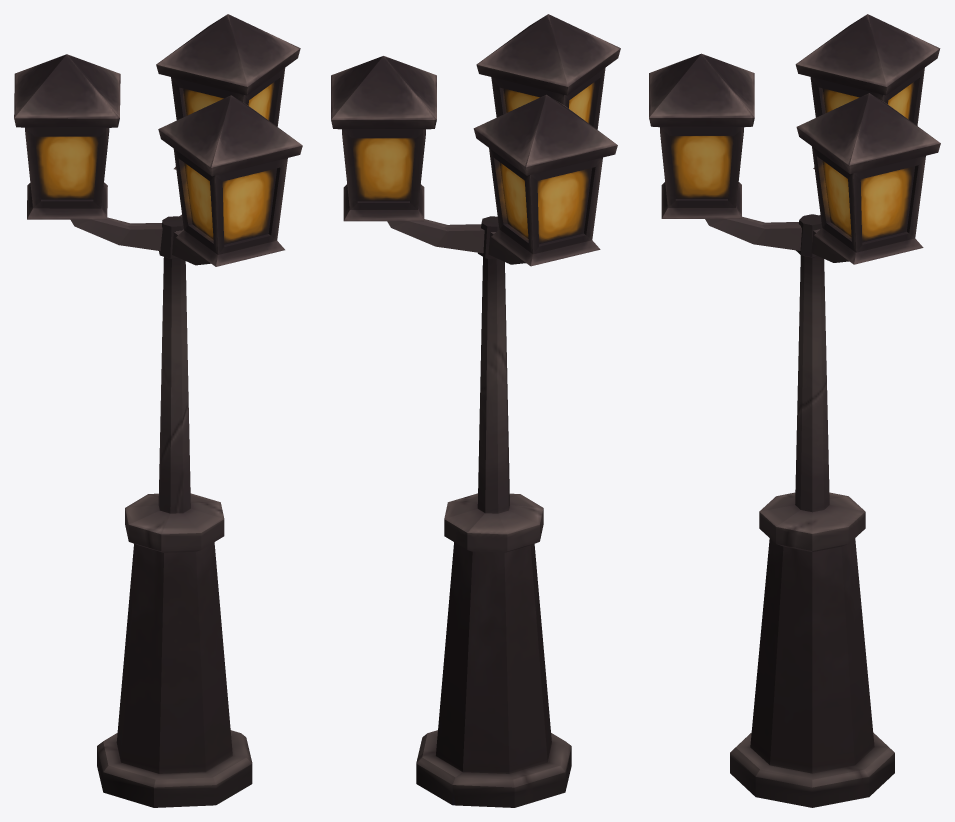
File: lamp_3.fbx
3 views of the same model, side by side, from view 1: azimuth 30°, elevation 25°; view 2: azimuth 150°, elevation 25°; view 3: azimuth 270°, elevation 25° (orthographic).
Visible parts, largest first — view 1: lamp_3; view 2: lamp_3; view 3: lamp_3.
Boxes of the visible parts, box(x1,y1,x2,y2) form: lamp_3: box(14, 14, 302, 807); lamp_3: box(331, 14, 620, 807); lamp_3: box(649, 14, 940, 807).
Bounding box in the file's own units: 1.34 × 3.22 × 1.18.
